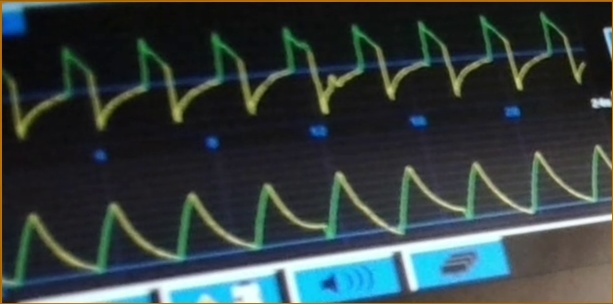Premature_cycling Flow: (3, 8, 583, 137)
Premature_cycling Volume: (4, 144, 582, 289)
